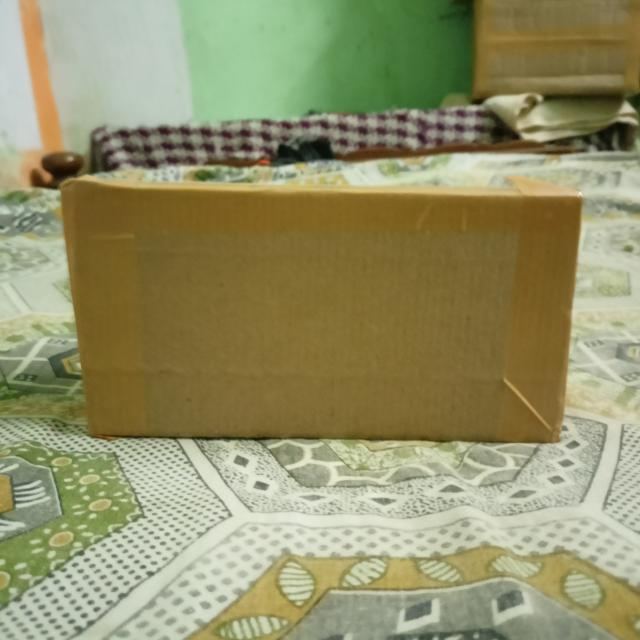box: (62, 182, 582, 444)
